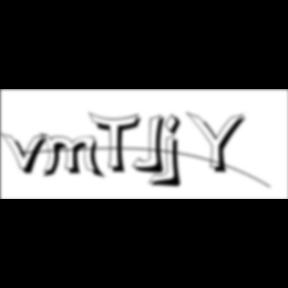J: (132, 114, 172, 176)
T: (89, 112, 147, 176)
Y: (186, 110, 252, 176)
j: (162, 113, 188, 191)
m: (40, 132, 108, 181)
v: (0, 131, 54, 177)
